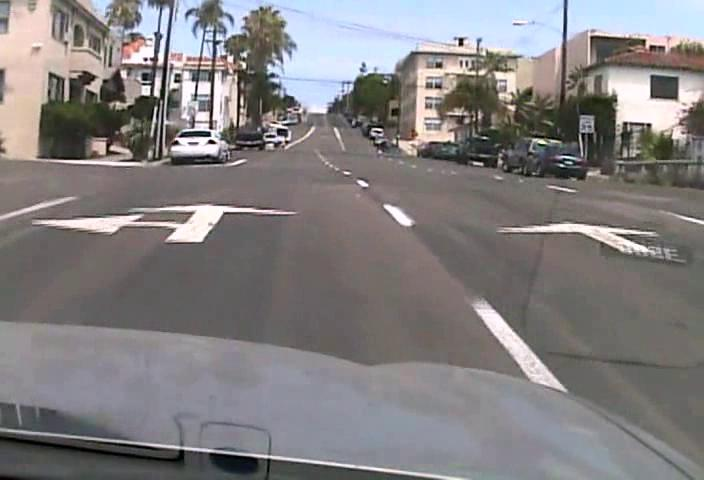speedLimit25: (578, 113, 595, 134)
